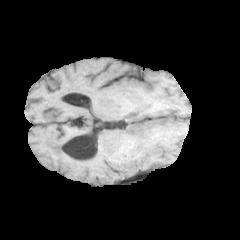glioma: (44, 111, 185, 172)
